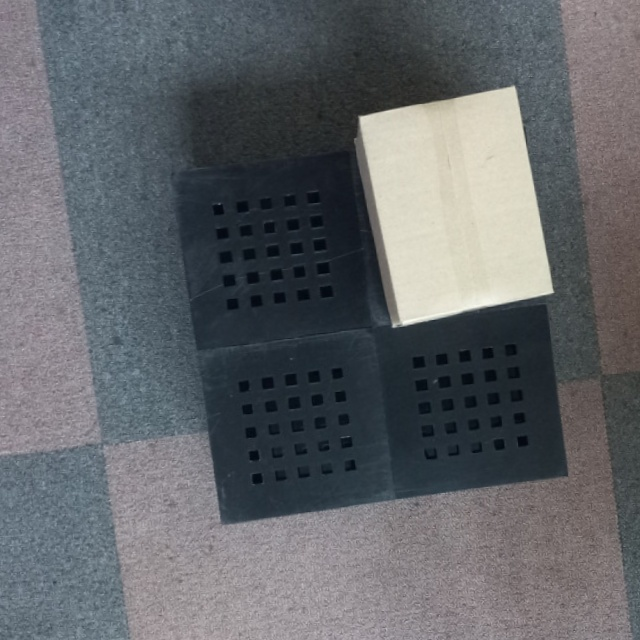box: (355, 83, 555, 328)
pallet: (158, 117, 591, 538)
